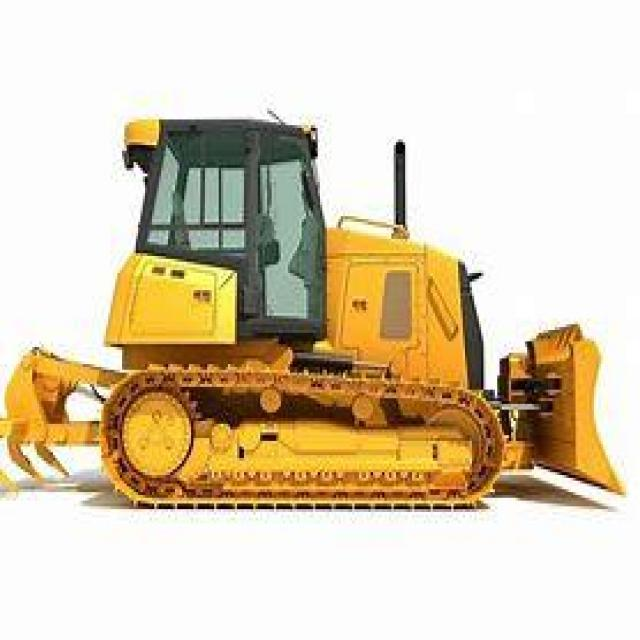Bulldozer: (7, 100, 635, 526)
